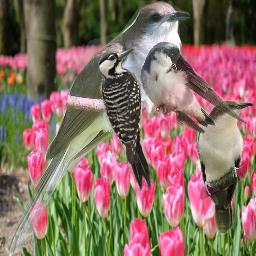Cuckoo: (3, 1, 190, 256), (197, 100, 254, 236)
Swallow: (138, 40, 252, 135)
Woodpecker: (98, 48, 153, 192)
